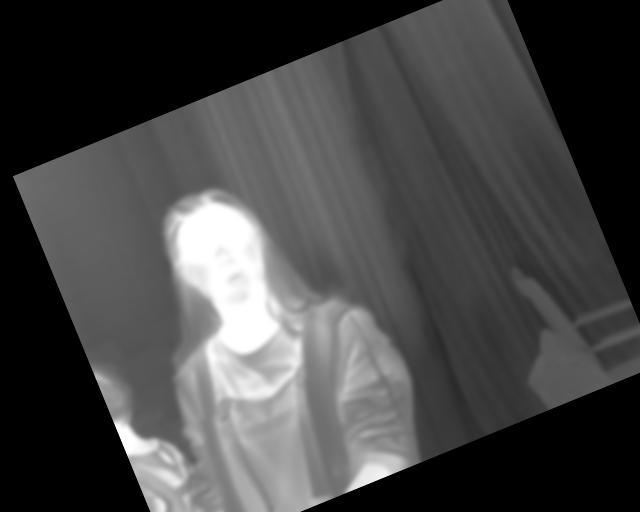face: (380, 167, 463, 259), (219, 198, 298, 288)
